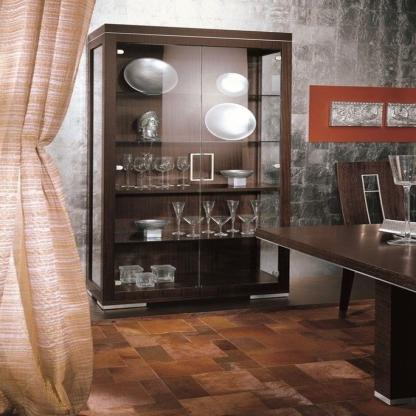Cupboard: (85, 23, 295, 314)
